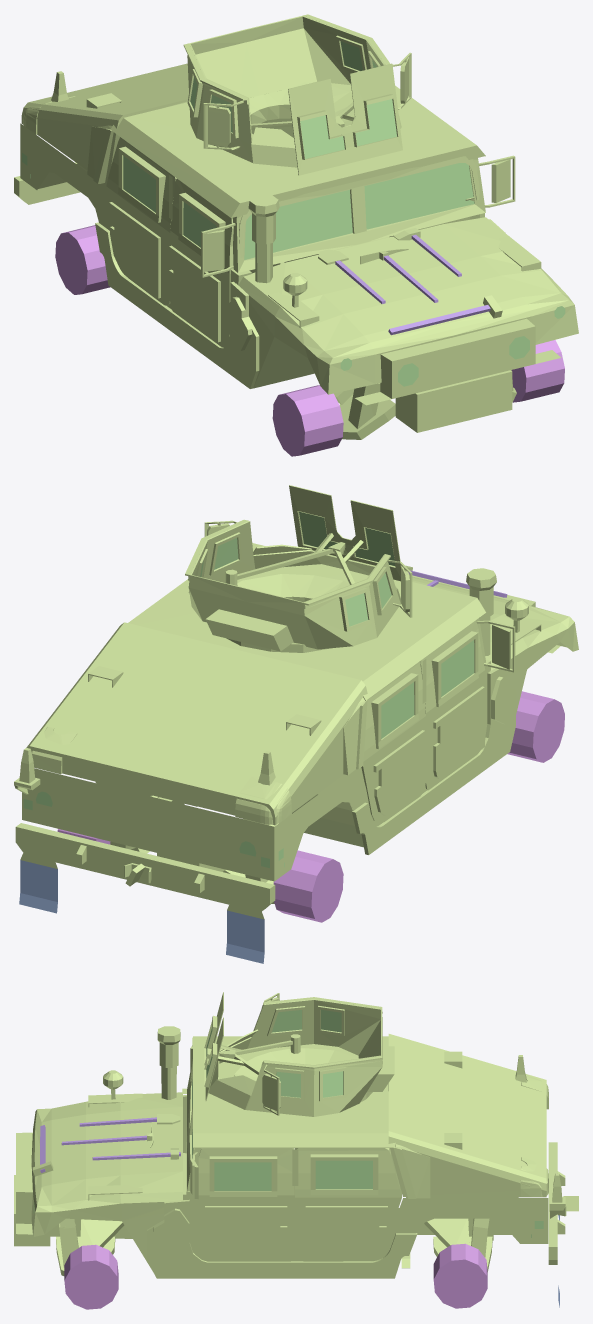
Rendered from land-wheeled-humvee-machinegun--wheels-destroyed.glb.
3 renders of one model, top to bottom at view 1: azimuth 30°, elevation 25°; view 2: azimuth 150°, elevation 25°; view 3: azimuth 270°, elevation 25°, orthographic. The views are drawn at different scales.
Parts seen in each view (by area): view 1: CC_WHL_05_Turret_01, CC_WHL_05_Turret, CC_WHL_05_Fastback_RearRight_Destroyed_1, CC_WHL_05_Fastback_RearRight_Destroyed_3, CC_WHL_05_Fastback_RearRight_Destroyed_0; view 2: CC_WHL_05_Turret_01, CC_WHL_05_Turret, CC_WHL_05_Fastback_RearRight_Destroyed_3, CC_WHL_05_Fastback_RearRight_Destroyed_1; view 3: CC_WHL_05_Turret_01, CC_WHL_05_Turret, CC_WHL_05_Fastback_RearRight_Destroyed_0, CC_WHL_05_Fastback_RearRight_Destroyed_2.
Boxes of the visible parts, box(x1,y1,x2,y2) form: CC_WHL_05_Turret_01: box(14, 63, 578, 439); CC_WHL_05_Turret: box(183, 14, 411, 175); CC_WHL_05_Fastback_RearRight_Destroyed_1: box(272, 385, 343, 456); CC_WHL_05_Fastback_RearRight_Destroyed_3: box(55, 225, 110, 294); CC_WHL_05_Fastback_RearRight_Destroyed_0: box(511, 340, 564, 402); CC_WHL_05_Turret_01: box(14, 543, 578, 963); CC_WHL_05_Turret: box(185, 485, 412, 651); CC_WHL_05_Fastback_RearRight_Destroyed_3: box(273, 850, 343, 922); CC_WHL_05_Fastback_RearRight_Destroyed_1: box(507, 691, 564, 762); CC_WHL_05_Turret_01: box(14, 1026, 578, 1307); CC_WHL_05_Turret: box(204, 992, 394, 1116); CC_WHL_05_Fastback_RearRight_Destroyed_0: box(64, 1244, 118, 1309); CC_WHL_05_Fastback_RearRight_Destroyed_2: box(433, 1243, 487, 1308).
Bounding box in the file's own units: 3.07 × 2.73 × 5.73.
